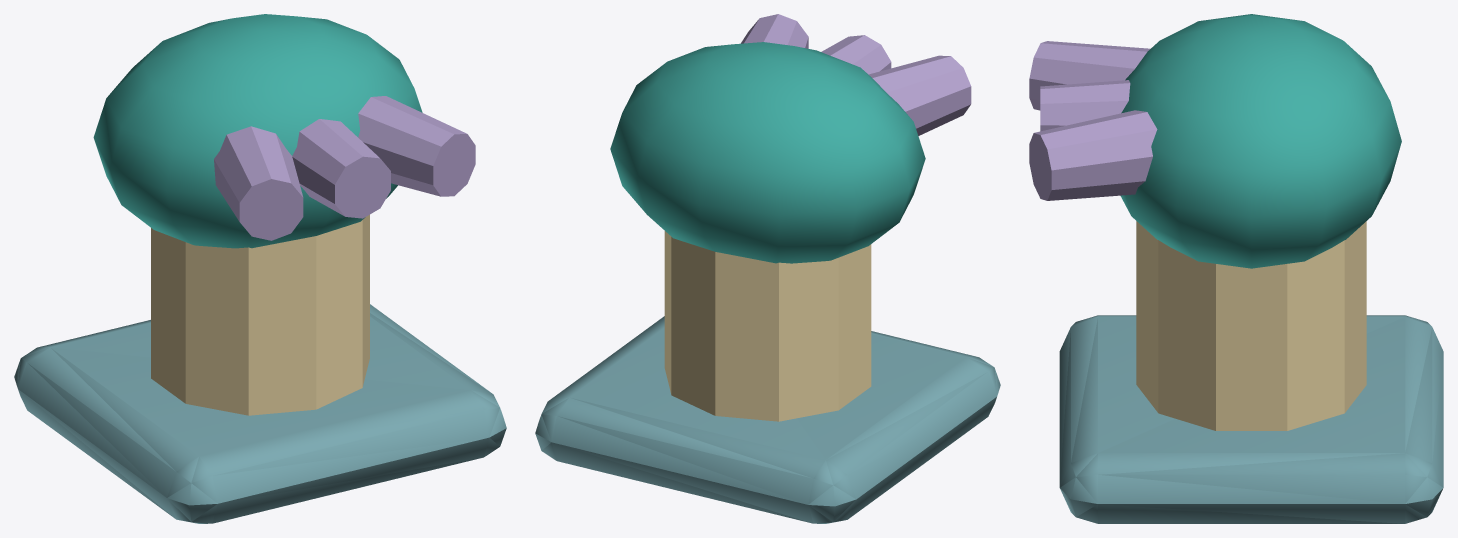
The model's file is DW_FanSpitter.fbx.
3 views of the same model, side by side, from view 1: azimuth 30°, elevation 25°; view 2: azimuth 150°, elevation 25°; view 3: azimuth 270°, elevation 25° (orthographic). The views are drawn at different scales.
Parts seen in each view (by area): view 1: FanSpitter; view 2: FanSpitter; view 3: FanSpitter.
Boxes of the visible parts, x1=… form: FanSpitter: x1=14, y1=14, x2=506, y2=523; FanSpitter: x1=535, y1=14, x2=1000, y2=523; FanSpitter: x1=1029, y1=14, x2=1443, y2=523.
Bounding box in the file's own units: 1.25 × 1.44 × 1.29.
